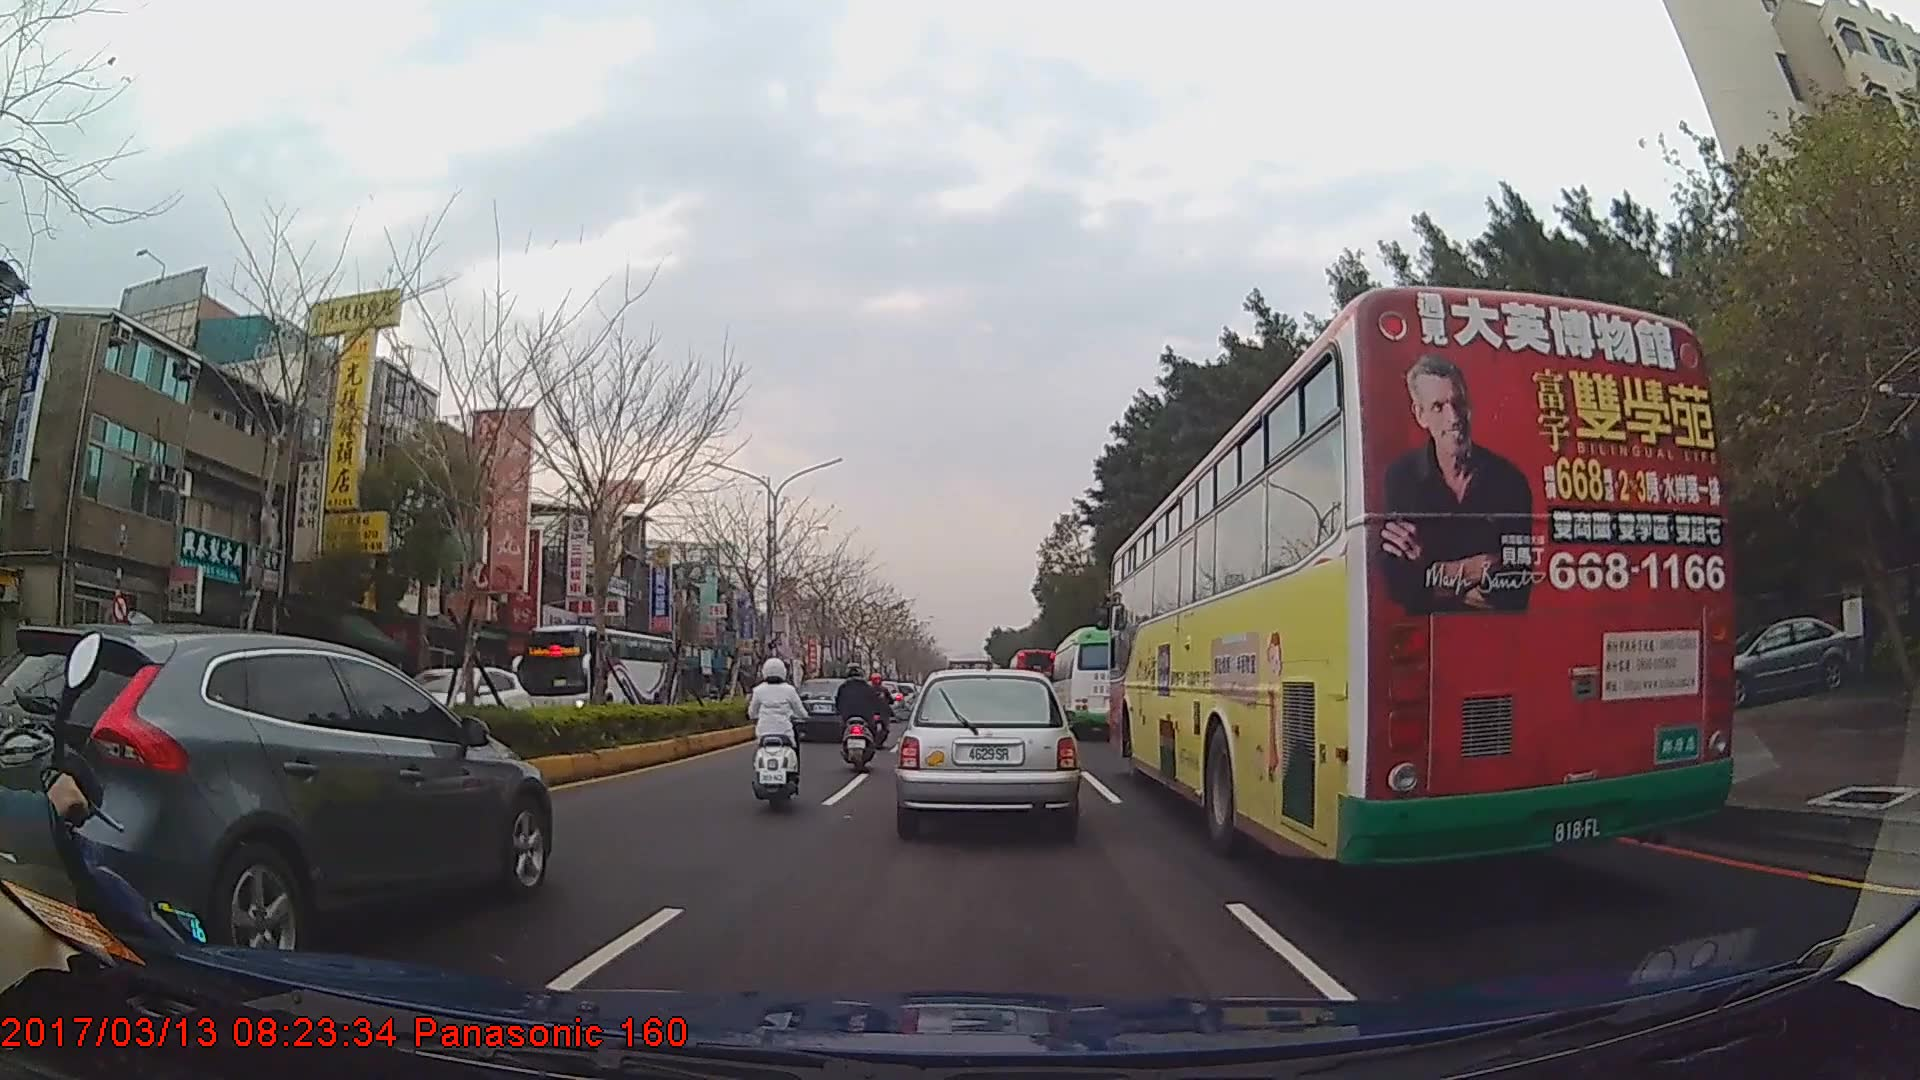rider: (746, 656, 809, 816), (832, 665, 885, 763), (866, 676, 893, 754)
vehicle: (1104, 288, 1734, 877), (0, 626, 553, 957), (899, 666, 1078, 838), (521, 625, 677, 731), (1051, 627, 1142, 741), (390, 665, 529, 740), (788, 680, 866, 746), (1005, 649, 1057, 722)
